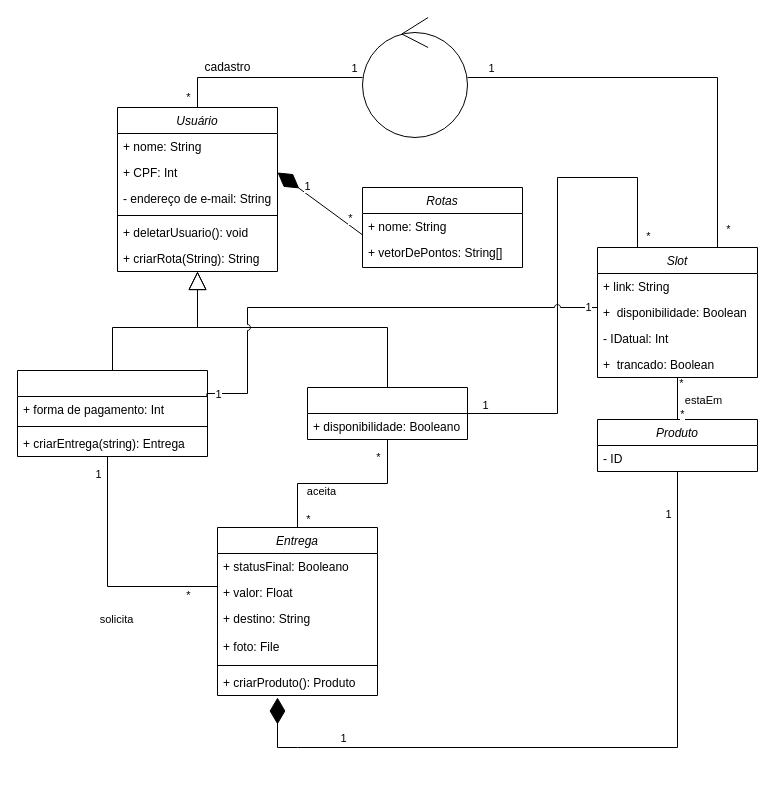
The diagram is 775 pixels wide and 791 high, and some of its shapes have lost their labels. The shapes that lost their labels are listed below. From the top down, each one's box as (x1, y1, x2, y2) in pixels, then its label:
(362, 16, 468, 138): App
(16, 370, 208, 456): Cliente
(306, 386, 468, 440): Entregador
